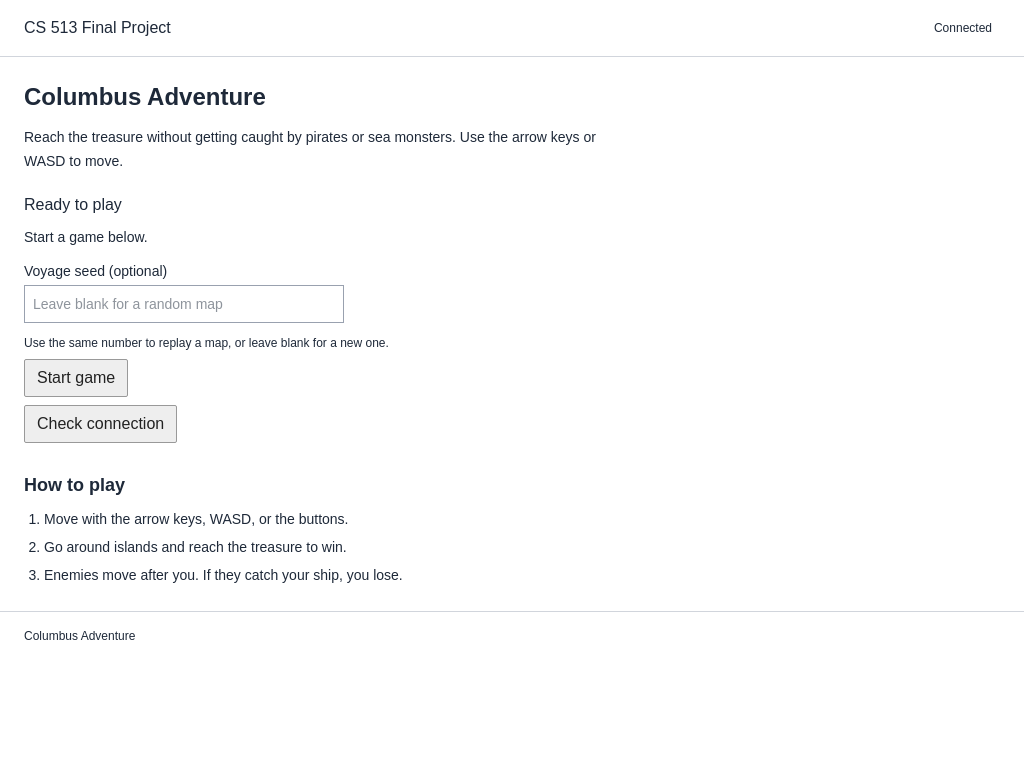
Test case: resynchronizes an interrupted move without automatically repeating the POST
This screenshot has width=1024, height=768.
Check: the text "Connected" is shown, box [934,21,992,35]
What coordinates should you click on to do the following:
click the button "Start game"
I would click on:
 (76, 378)
Its box is [24,359,128,397].
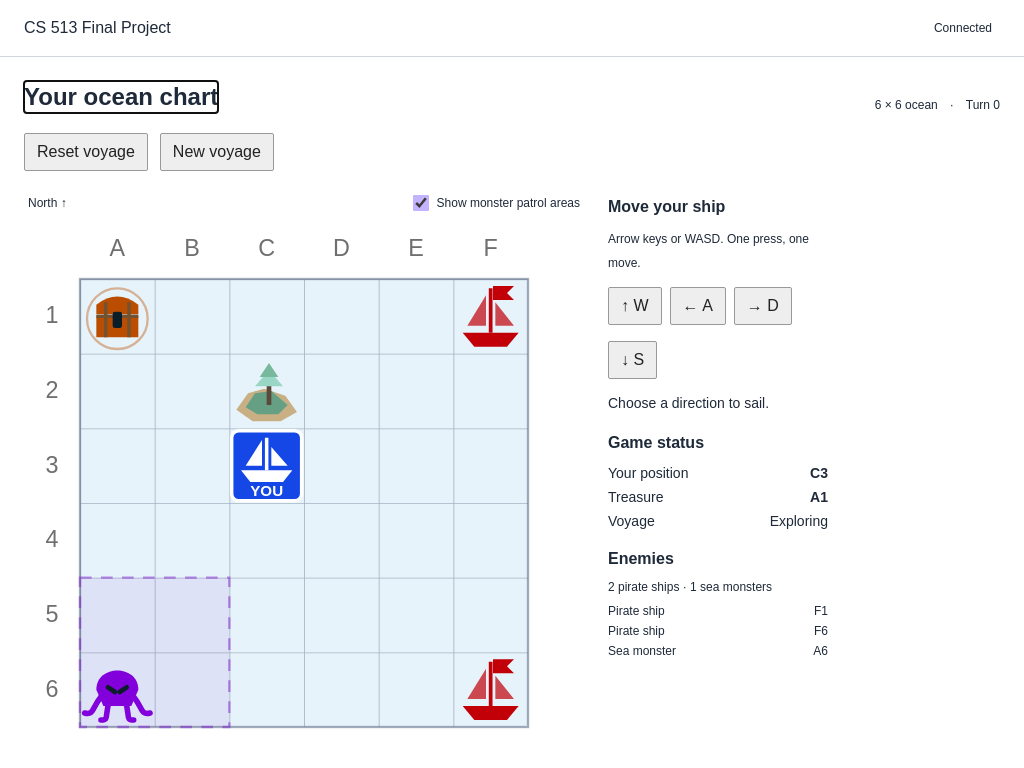
Check: the heading "Your ocean chart" is shown, box [24,81,218,113]
What coordinates should you click on to do the following:
click the button named "Move south"
I would click on:
 (633, 360)
Its box is [608,341,657,379].
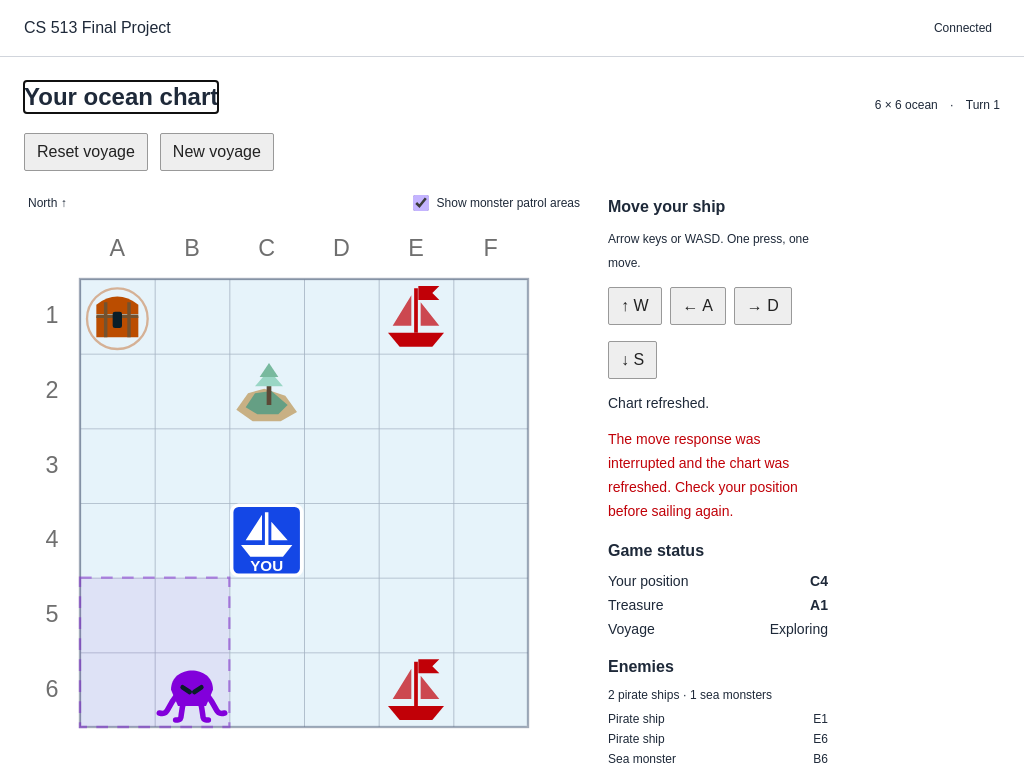
Check: the button named "Move south" is enabled, box [608,341,657,379]
Check: the text "Turn 1" is shown, box [966,97,1000,113]
Check: the 3rd message shows "Check your position before sailing again.", box [608,431,798,519]
